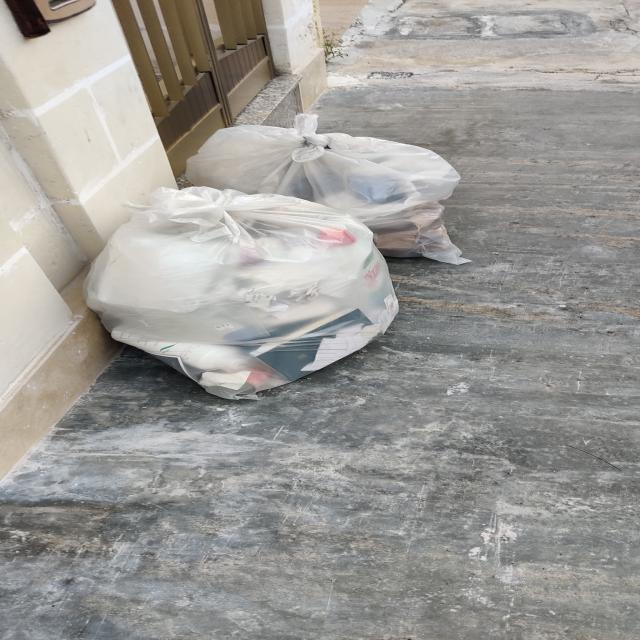Recyclable Material -Grey Bags-: (68, 125, 472, 405)
